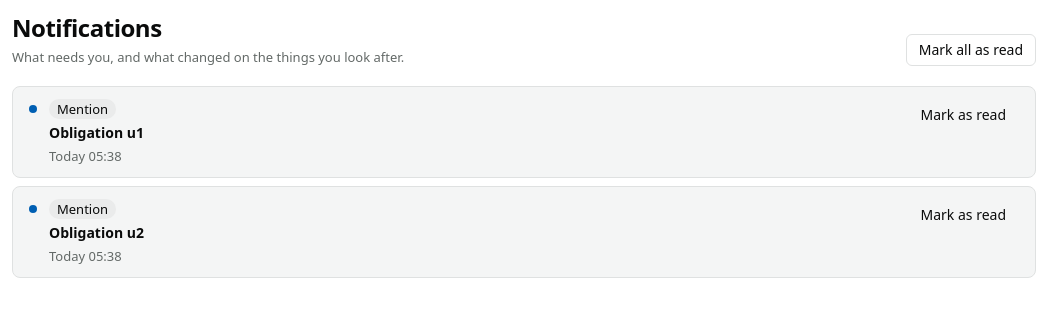
Test: the notification inbox › puts every row back and says why when marking all read fails
Click the button "Mark all as read" at (971, 50), box x1=906 y1=34 x2=1036 y2=66
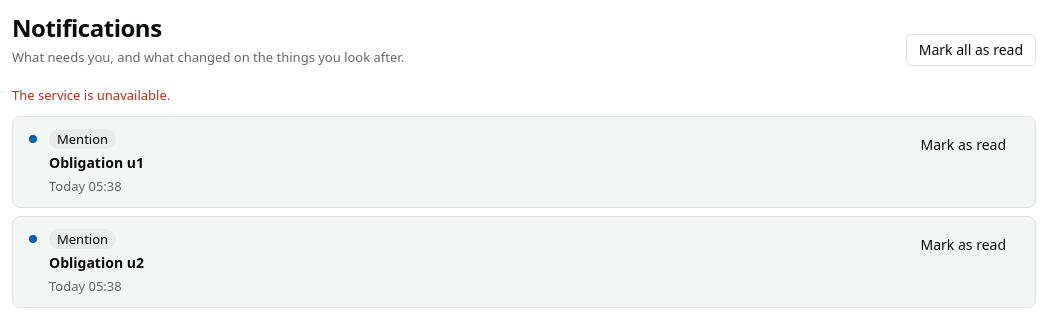
Expected: the number of list items is 2, x1=12 y1=116 x2=1036 y2=208; x1=12 y1=216 x2=1036 y2=308
Expected: the message reads "The service is unavailable.", x1=12 y1=86 x2=170 y2=104
